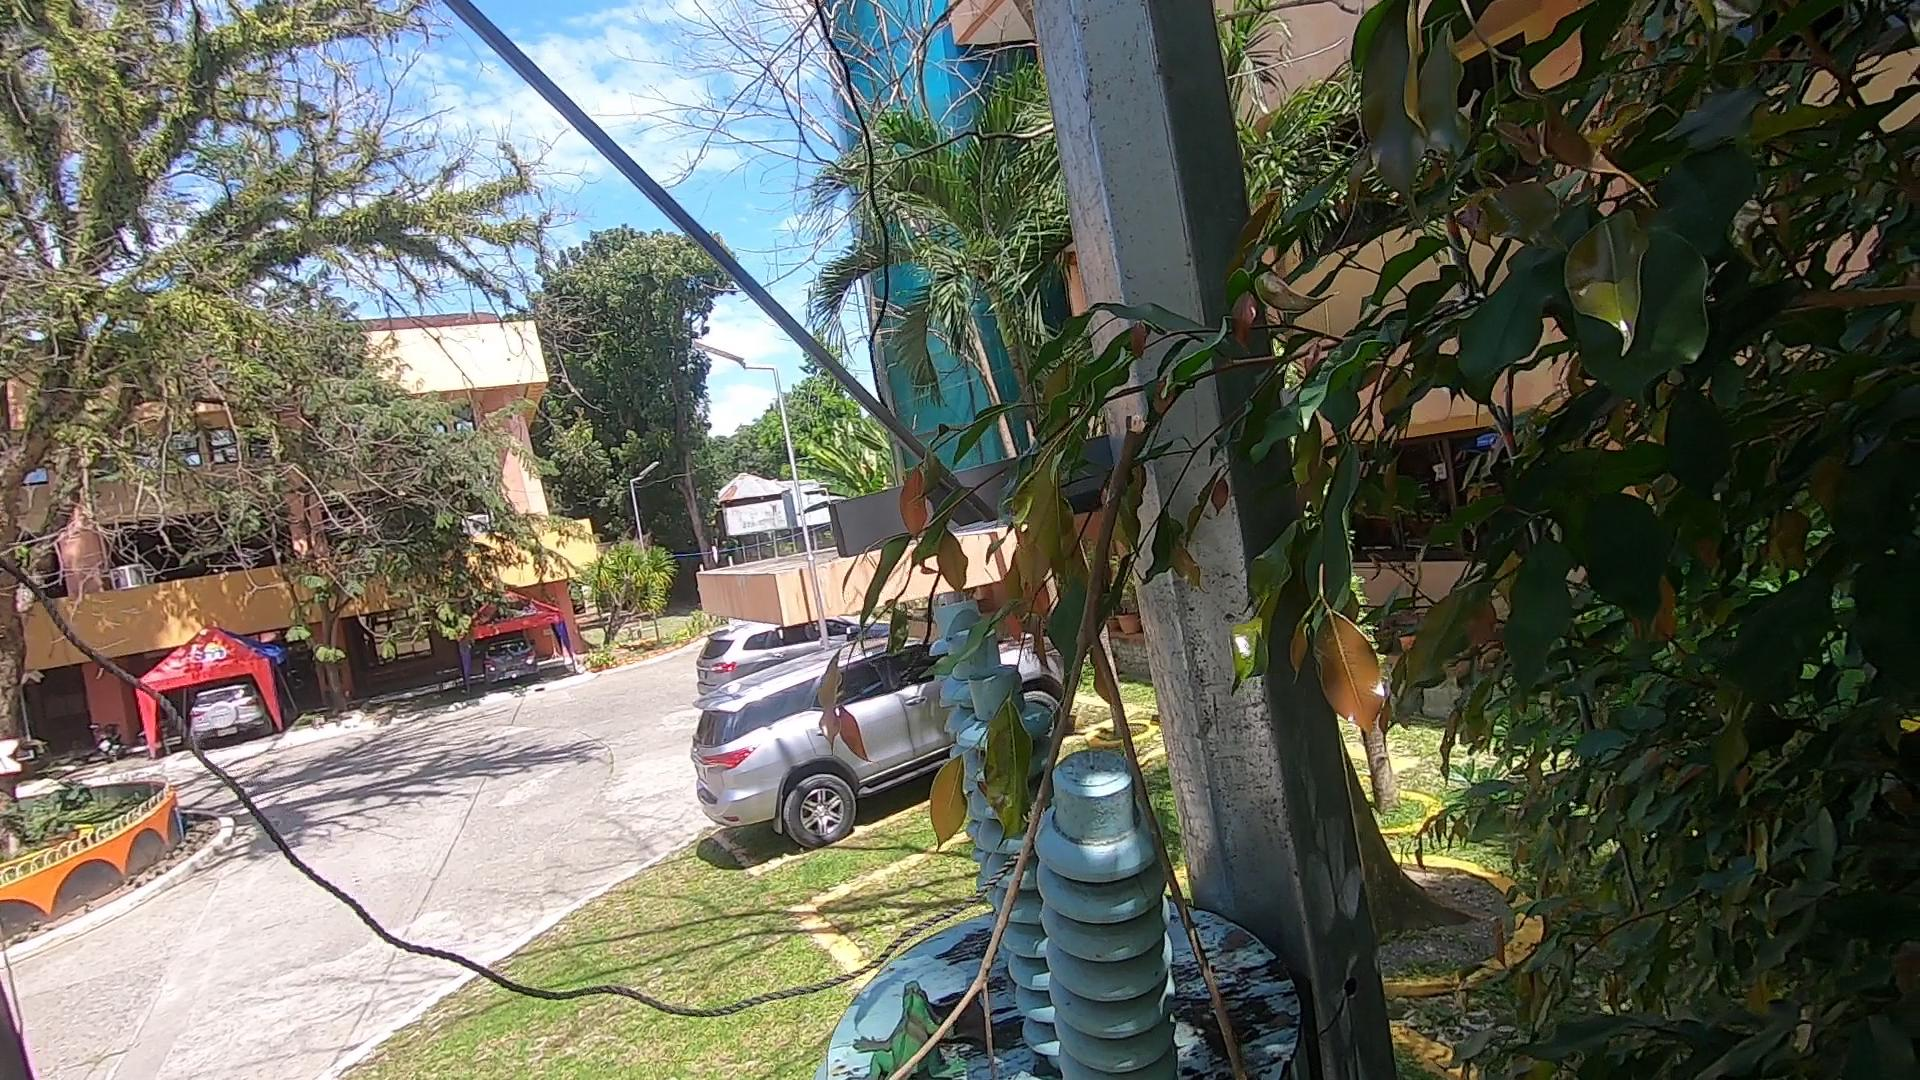leaf: (923, 992, 986, 1058)
tree branch: (872, 393, 1244, 1080)
